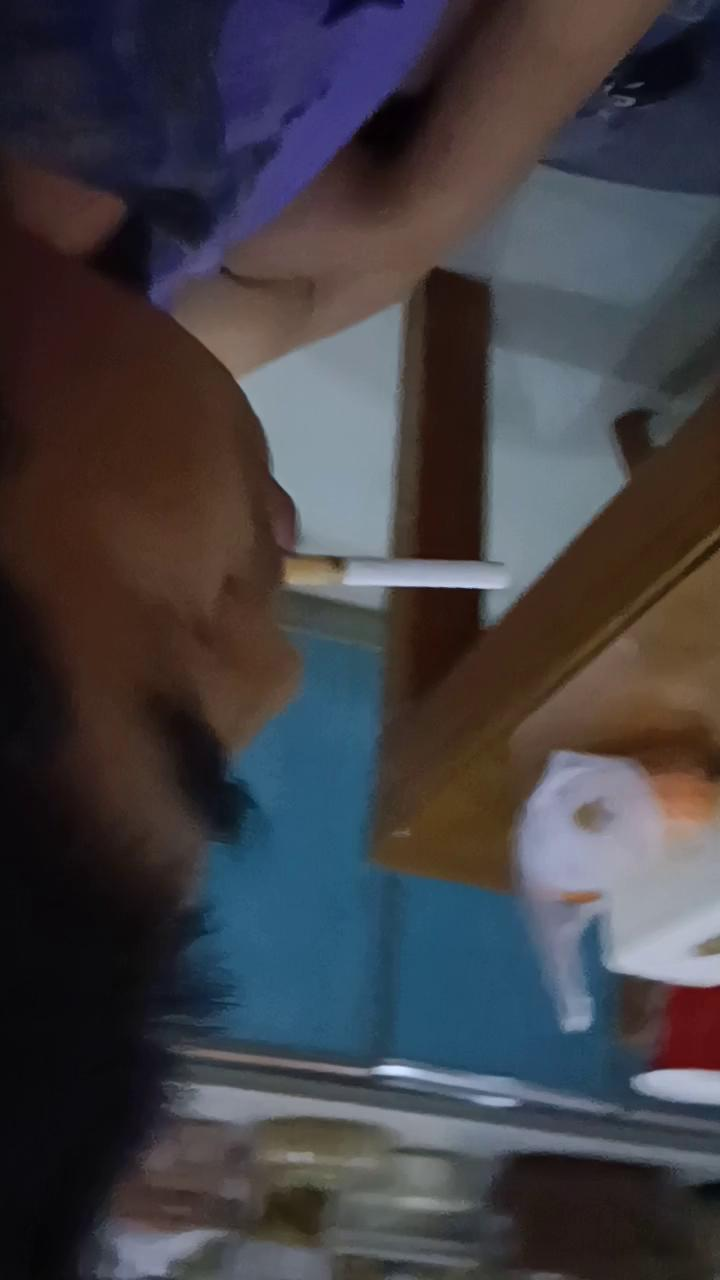smoke: (281, 554, 508, 591)
